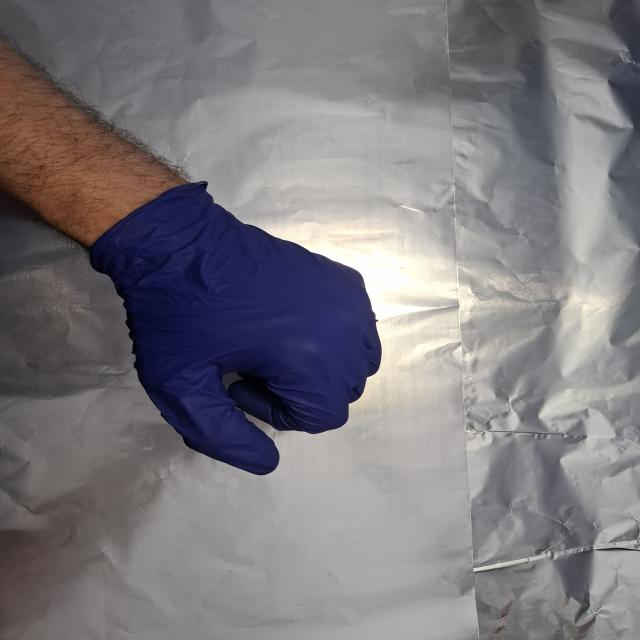glove_on: (91, 178, 387, 478)
